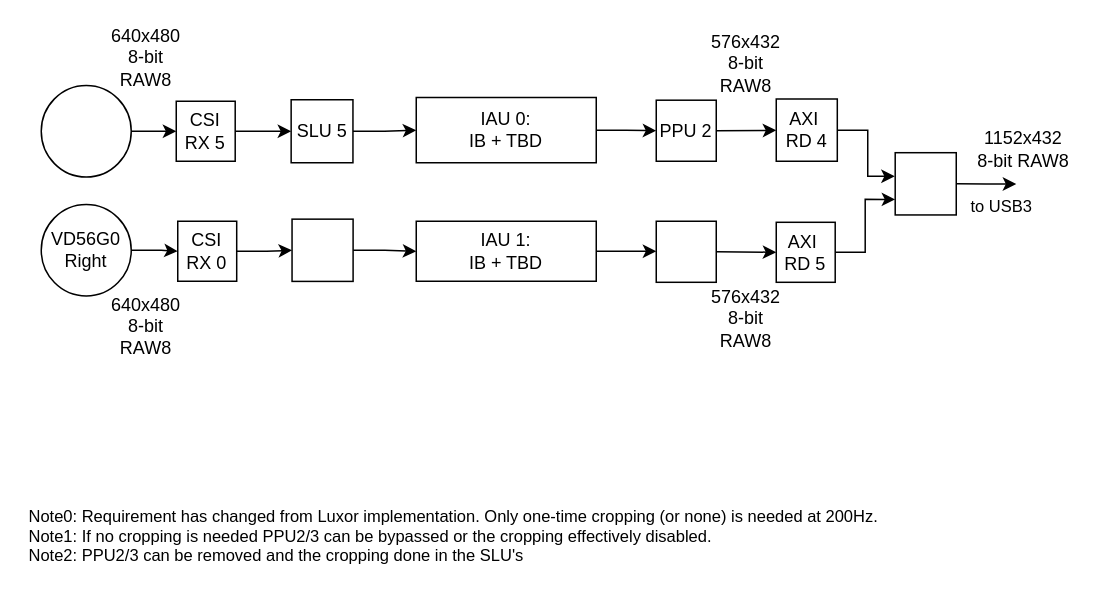
The diagram is 1101 pixels wide and 593 high, and some of its shapes have lost their labels. Here are the shapes that lost their labels. From the top down, the centre of each, then its label:
At (85,130): "VD56G0 Left".
At (925,183): "INT4".
At (322,249): "SLU 0".
At (685,251): "PPU 3".
